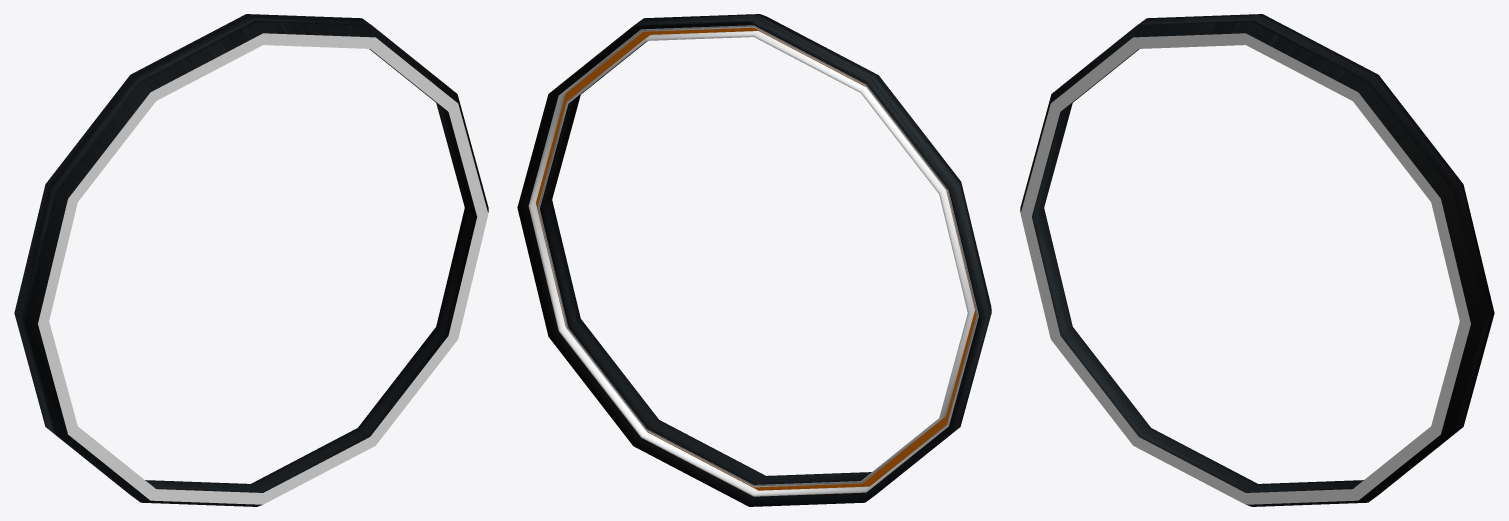
The model's file is Ring.fbx.
3 views of the same model, side by side, from view 1: azimuth 30°, elevation 25°; view 2: azimuth 150°, elevation 25°; view 3: azimuth 330°, elevation 25° (orthographic).
Parts seen in each view (by area): view 1: Decal Black, Block_0_Ring, Decal balck; view 2: Decal Black, Block_0_Ring, Decal balck, Decal Orange; view 3: Decal Black, Block_0_Ring, Decal balck.
Boxes of the visible parts, <box> form: Decal Black: <box>14,14,488,506</box>; Block_0_Ring: <box>38,33,488,504</box>; Decal balck: <box>145,49,476,492</box>; Decal Black: <box>517,14,991,506</box>; Block_0_Ring: <box>528,25,978,496</box>; Decal balck: <box>540,41,871,484</box>; Decal Orange: <box>536,27,976,490</box>; Decal Black: <box>1020,14,1494,506</box>; Block_0_Ring: <box>1020,33,1470,504</box>; Decal balck: <box>1032,49,1363,492</box>.
Size of the model in its own units: 108 by 108 by 6.86.
Materials: 3 (1 with a texture image).
